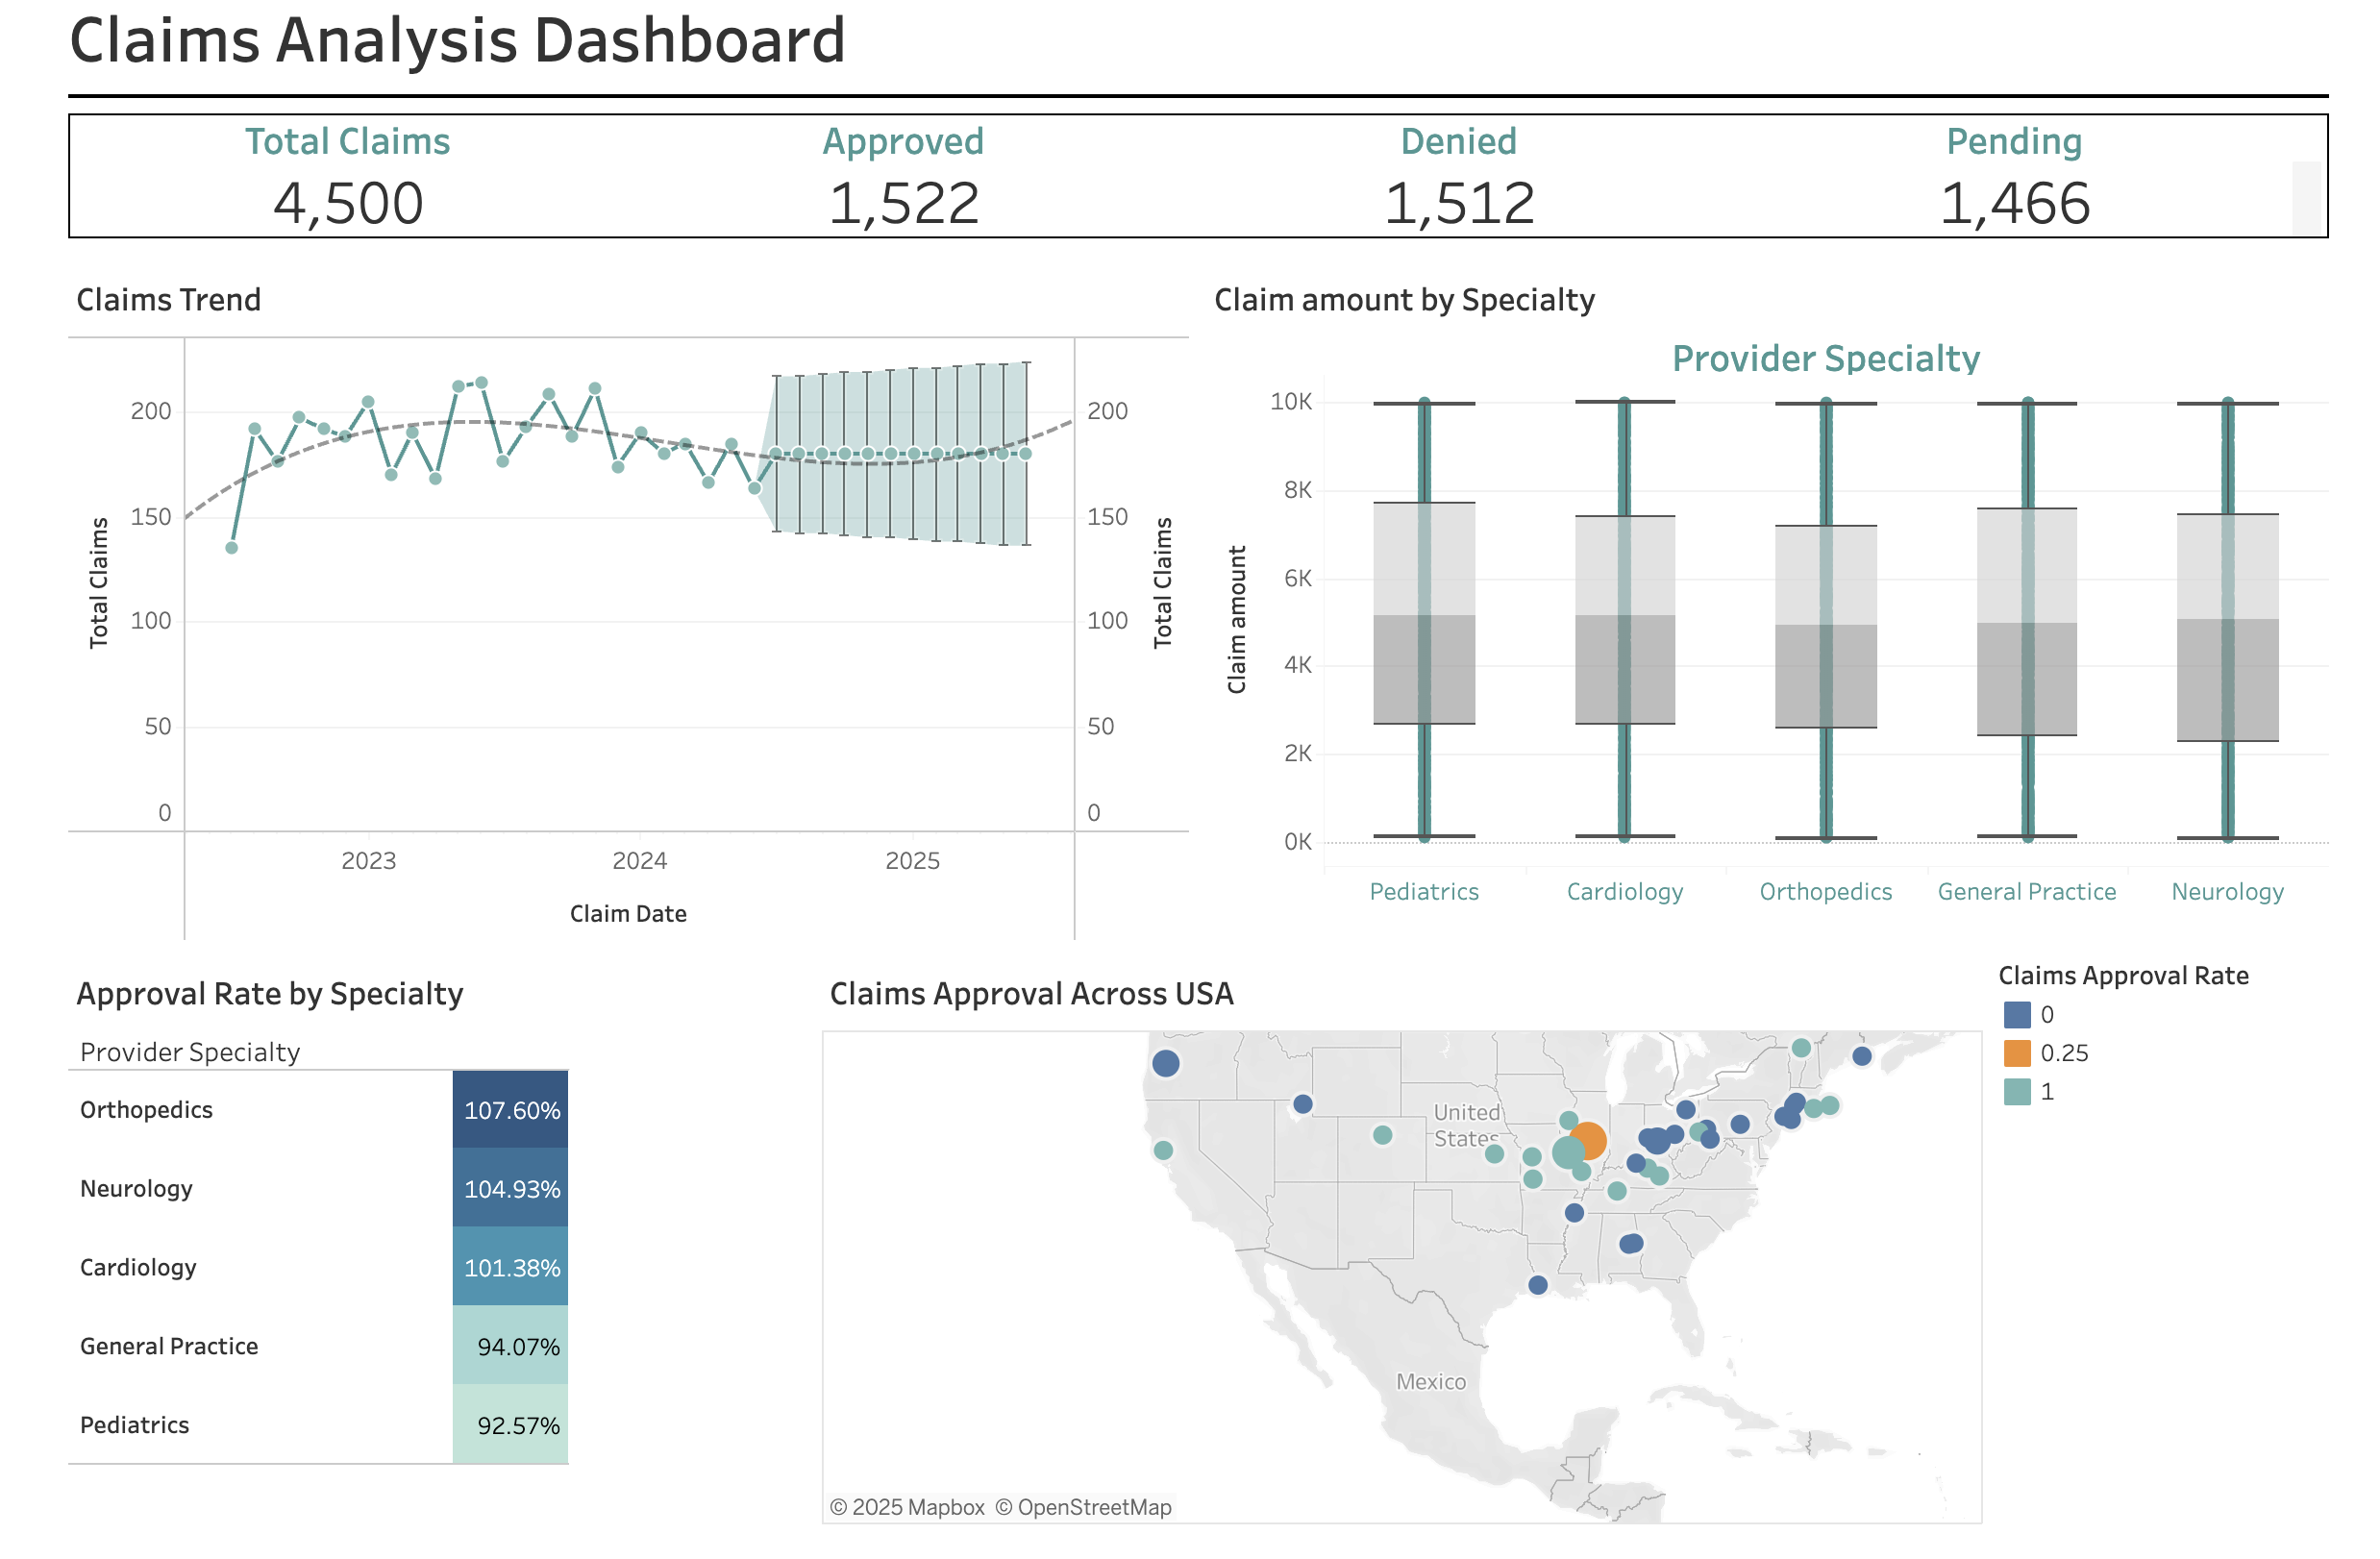

This screenshot's page, from the dashboard's own definition file:
{"tool":"tableau","page":{"name":"Dashboard 1","canvas":[1000,1000],"units":"permille","ordinal":0},"visuals":[{"type":"title","box":[6.7,9.4,986.7,61.2]},{"type":"blank","box":[6.7,70.6,986.7,11.8]},{"type":"worksheet","title":"KPIs","mark":"Automatic","box":[6.7,82.3,986.7,84.7]},{"type":"worksheet","title":"Line chart","mark":"Line","rows":["Calculation_330733154964516864","Calculation_330733154964516864"],"cols":["ClaimDate"],"box":[6.7,174.1,493.3,424.7]},{"type":"worksheet","title":"Boxplot","mark":"Circle","rows":["Calculation_516014058467721219"],"cols":["ProviderSpecialty"],"box":[500,174.1,493.3,424.7]},{"type":"worksheet","title":"Providers","mark":"Square","rows":["ProviderSpecialty"],"box":[6.7,598.8,326.7,356.5]},{"type":"worksheet","title":"Map","mark":"Automatic","box":[333.3,598.8,510,356.5]},{"type":"legend","title":"Map","param":"[federated.0wnj6i10o347h614jjz1z0wmugbi].[usr:Calculation_516014058460983298:ok]","box":[843.3,598.8,150,356.5]}]}

Visuals, with their boxes on the dashboard's canvas, which has no fixed pixel size, in thousandths of its width and height (x1, y1, x2, y2). These are canvas units, not pixel positions in the 2380x1559 screenshot, which may show the page scaled, cropped or inside an application window:
title: Rect(7, 9, 993, 71)
blank: Rect(7, 71, 993, 82)
"KPIs" worksheet: Rect(7, 82, 993, 167)
"Line chart" worksheet (Line marks): Rect(7, 174, 500, 599)
"Boxplot" worksheet (Circle marks): Rect(500, 174, 993, 599)
"Providers" worksheet (Square marks): Rect(7, 599, 333, 955)
"Map" worksheet: Rect(333, 599, 843, 955)
"Map" legend: Rect(843, 599, 993, 955)
